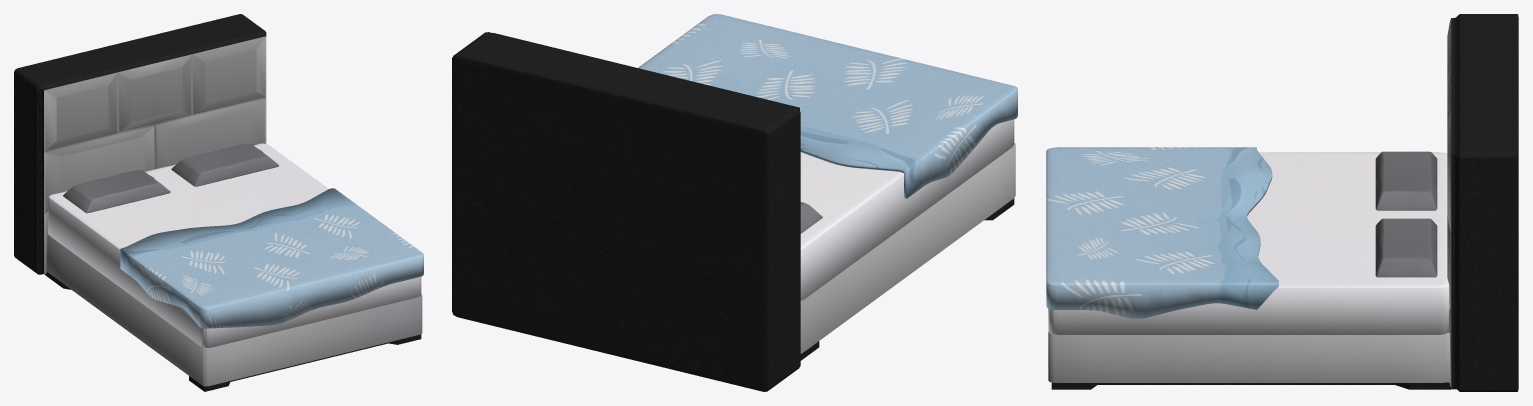
The model's file is modern bed.fbx.
3 renders of one model, left to right at view 1: azimuth 30°, elevation 25°; view 2: azimuth 150°, elevation 25°; view 3: azimuth 270°, elevation 25°, orthographic. The views are drawn at different scales.
Parts seen in each view (by area): view 1: modern bed; view 2: modern bed; view 3: modern bed.
Part boxes in pixels (x1=…): modern bed: x1=14, y1=14, x2=423, y2=391; modern bed: x1=452, y1=14, x2=1017, y2=391; modern bed: x1=1046, y1=14, x2=1518, y2=391.
Size of the model in its own units: 185 by 147 by 261.
Materials: 3 (3 with a texture image).
